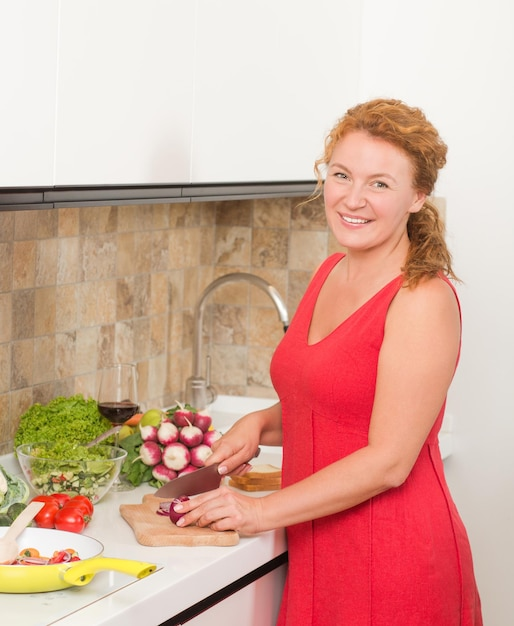knife: (156, 463, 229, 499)
